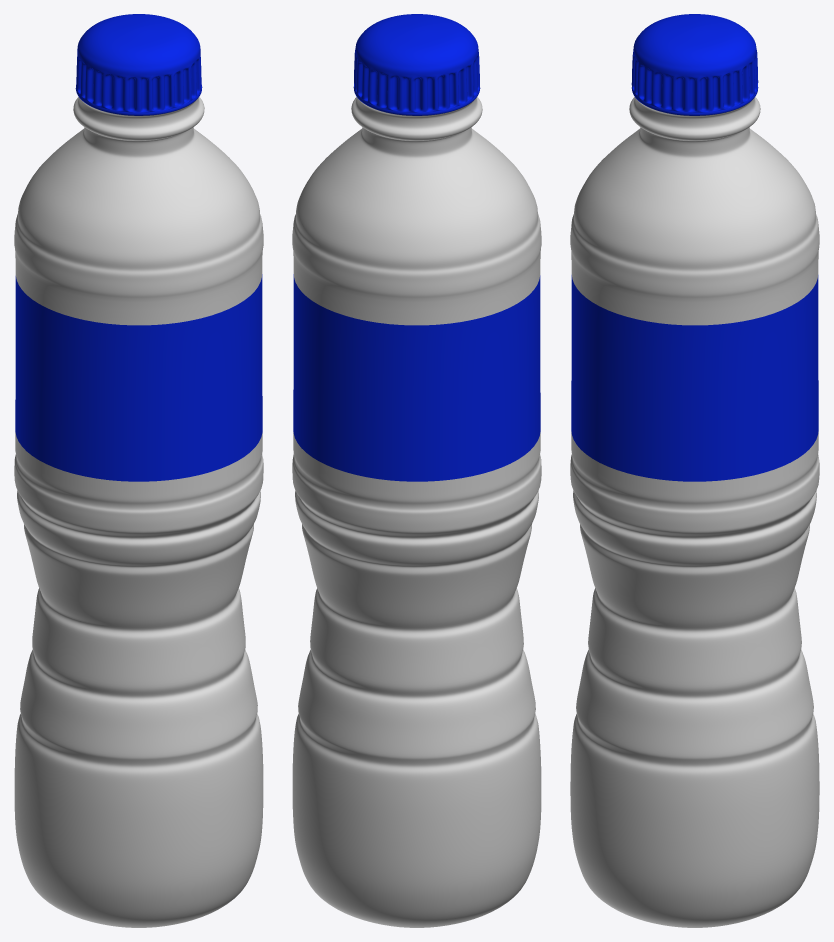
The model's file is WaterBottle.fbx.
3 views of the same model, side by side, from view 1: azimuth 30°, elevation 25°; view 2: azimuth 150°, elevation 25°; view 3: azimuth 270°, elevation 25° (orthographic).
Visible parts, largest first — view 1: Plane; view 2: Plane; view 3: Plane.
Part boxes in pixels (x1,y1,x2,y2): Plane: (14, 14, 263, 927); Plane: (292, 14, 541, 927); Plane: (570, 14, 819, 927).
Bounding box in the file's own units: 125 × 488 × 125.
